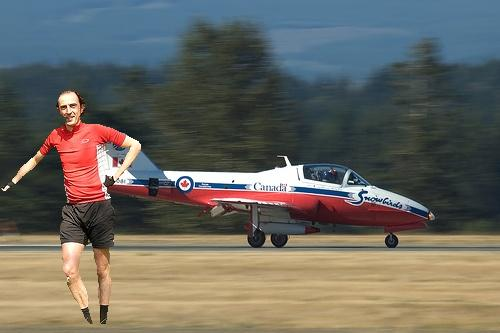tampered: (2, 91, 141, 324)
